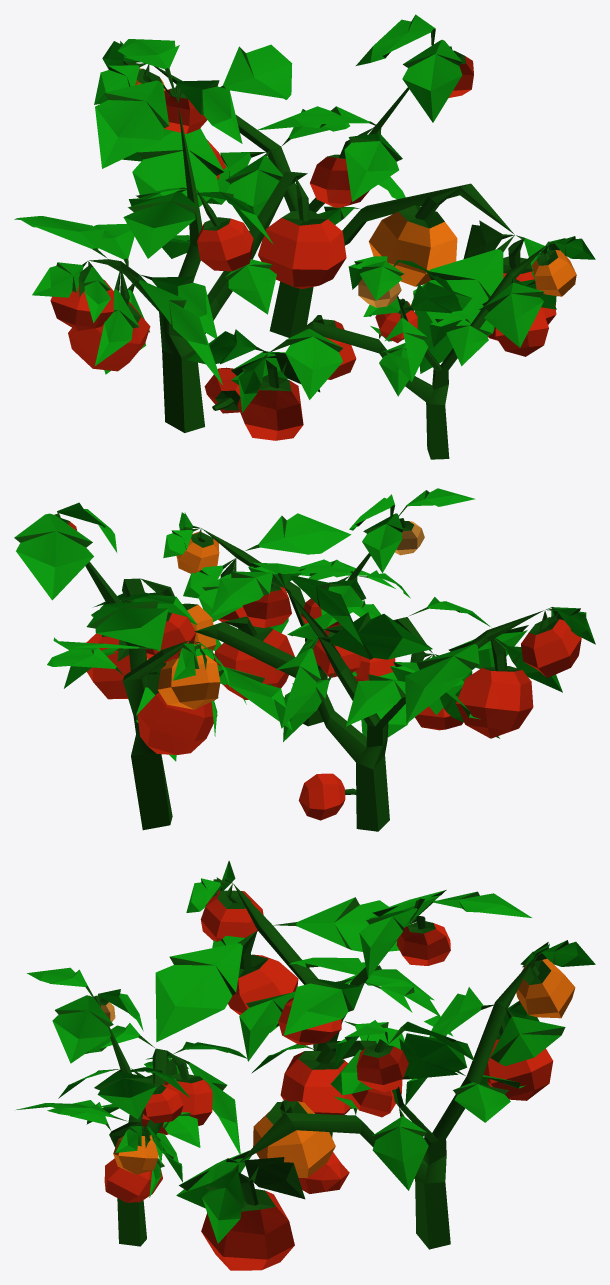
The model's file is tomato.glb.
3 renders of one model, top to bottom at view 1: azimuth 30°, elevation 25°; view 2: azimuth 150°, elevation 25°; view 3: azimuth 270°, elevation 25°, orthographic. The views are drawn at different scales.
Parts seen in each view (by area): view 1: tomato_3; view 2: tomato_3; view 3: tomato_3.
Part boxes in pixels (bbox=[...]): tomato_3: bbox=[14, 14, 595, 459]; tomato_3: bbox=[14, 488, 595, 831]; tomato_3: bbox=[16, 861, 595, 1270].
Size of the model in its own units: 4.13 by 2.28 by 4.09.
